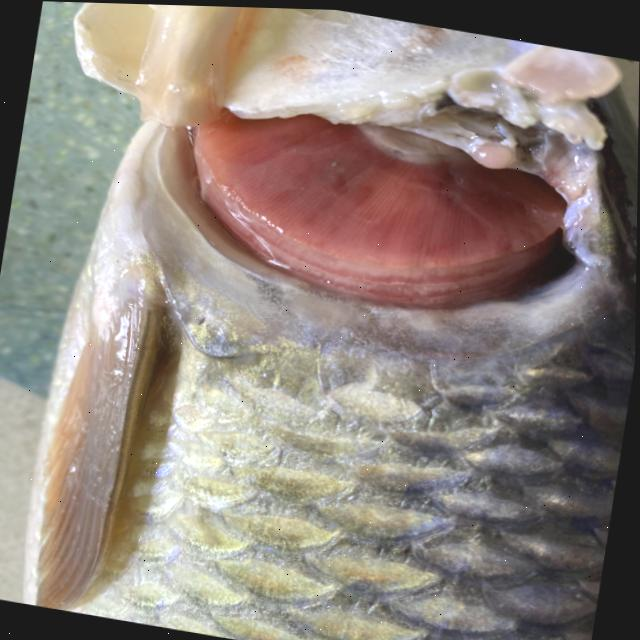Fresh: (152, 65, 633, 357)
